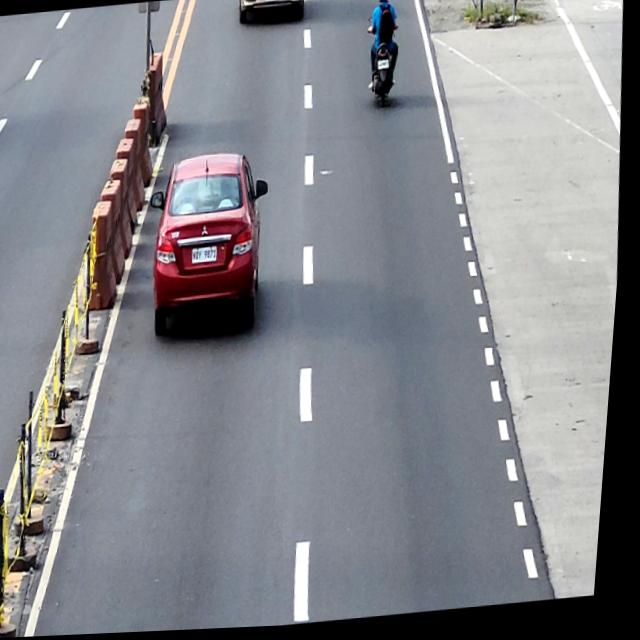Car: (143, 150, 281, 339), (236, 0, 306, 26)
License-Plate: (194, 245, 223, 267), (378, 63, 392, 73), (264, 0, 281, 5)
Motorcycle: (362, 17, 405, 113)
